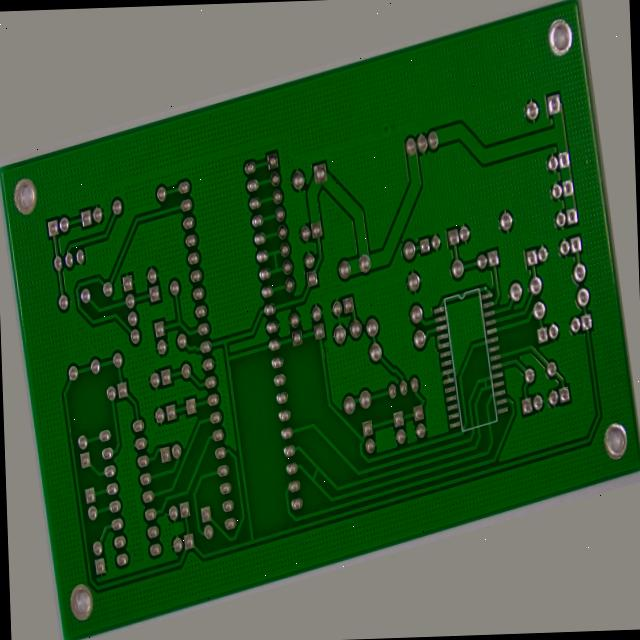short: (268, 212, 292, 251), (290, 495, 310, 531), (482, 443, 497, 465)
